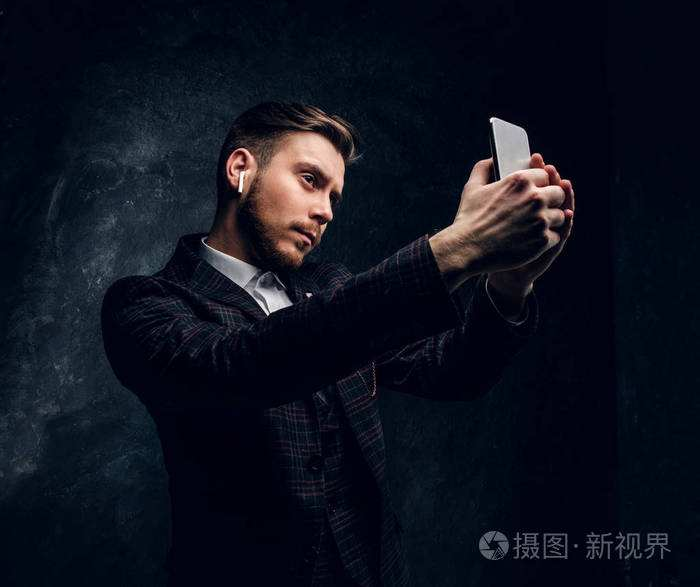taking photos: (434, 105, 578, 292)
